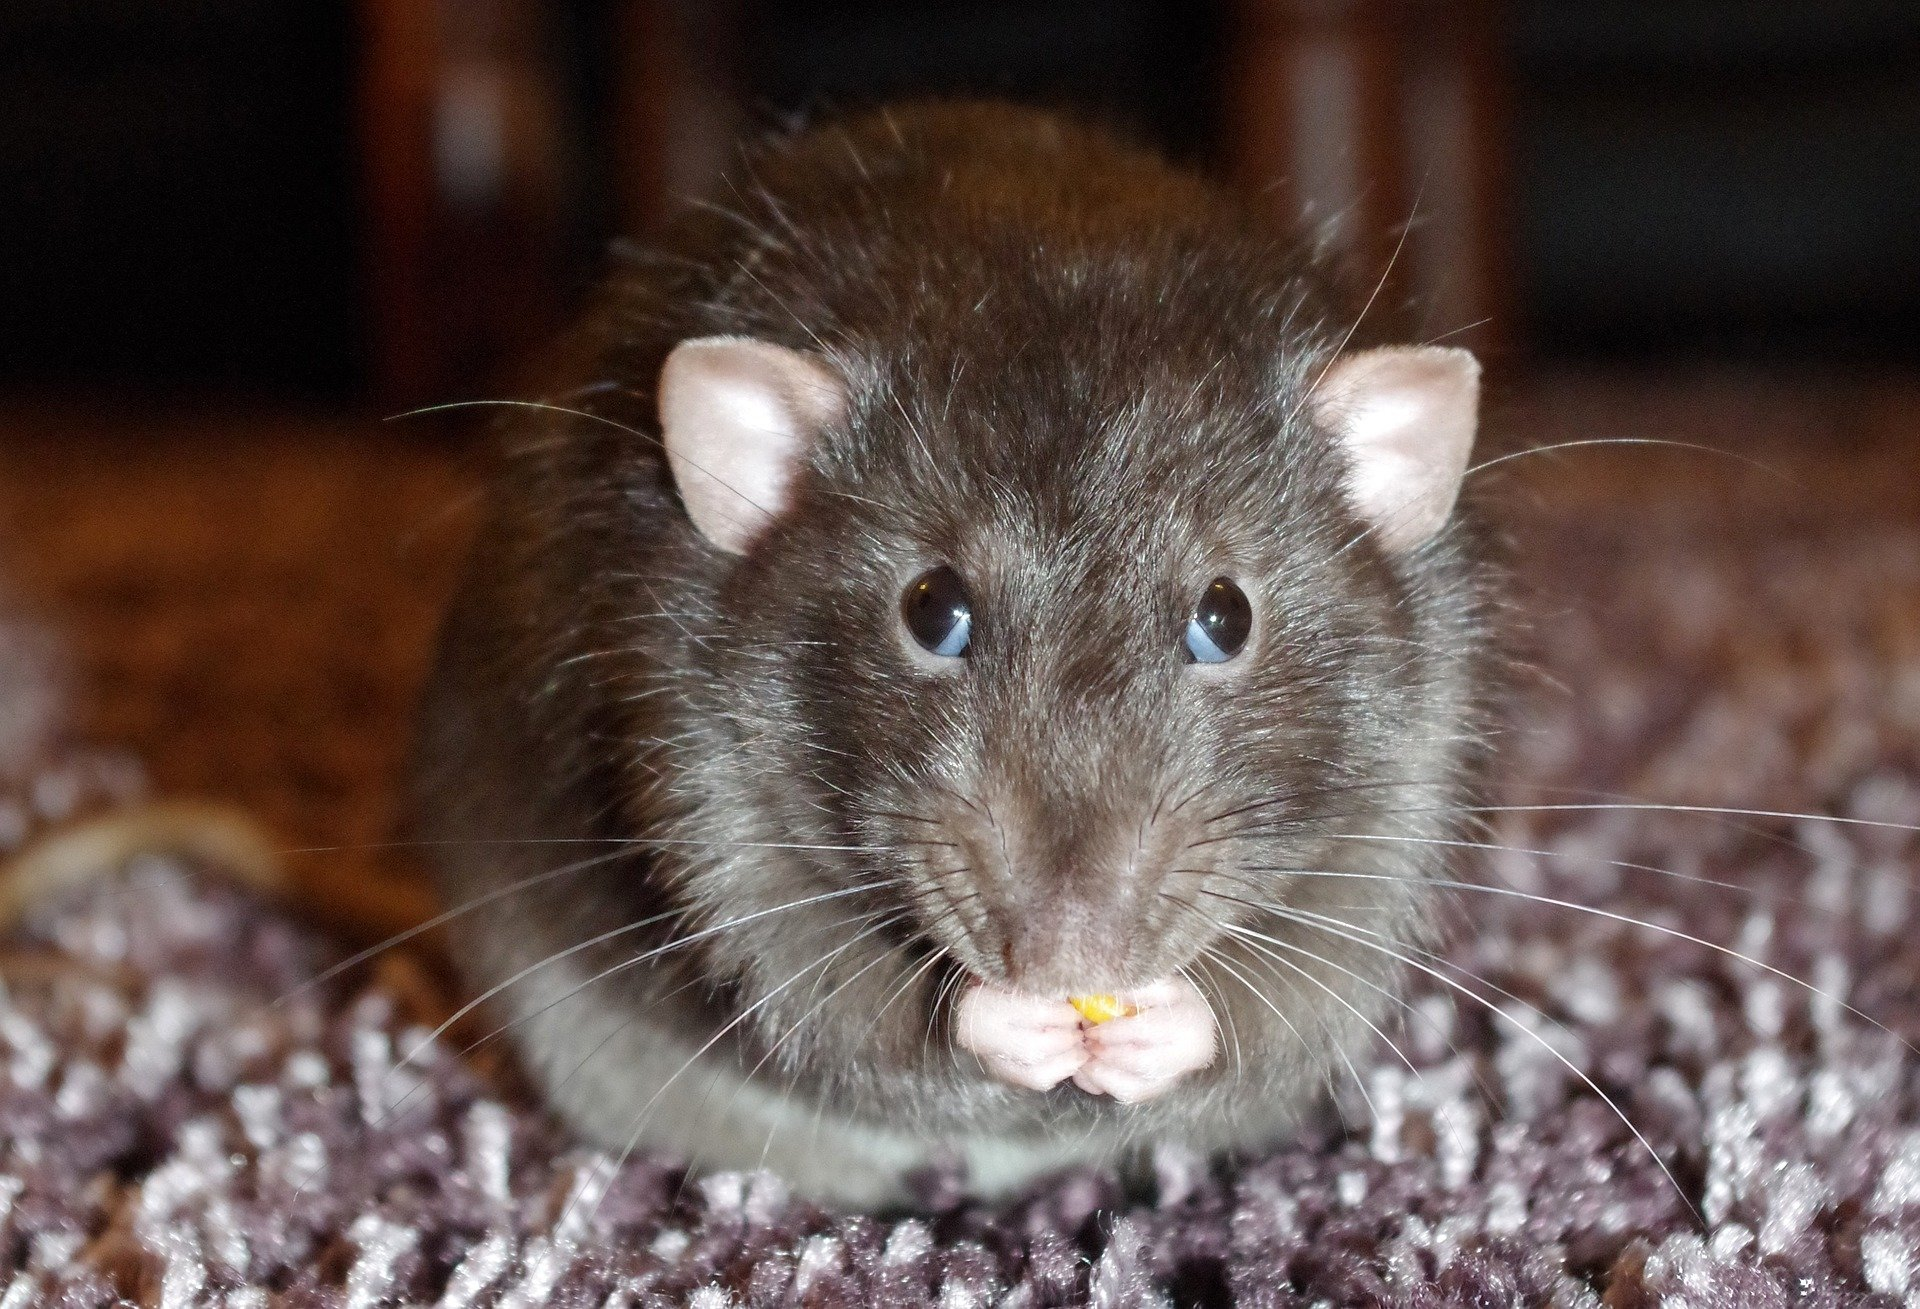Rat: (398, 177, 1624, 1213)
